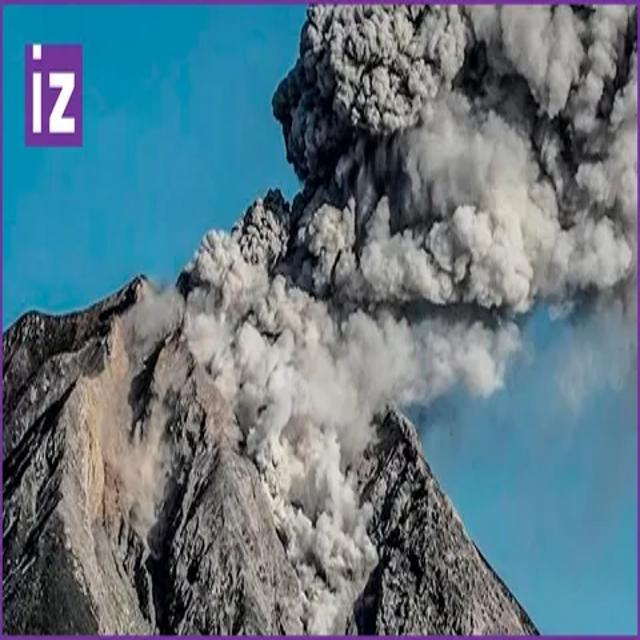Smoke: (169, 5, 637, 411)
